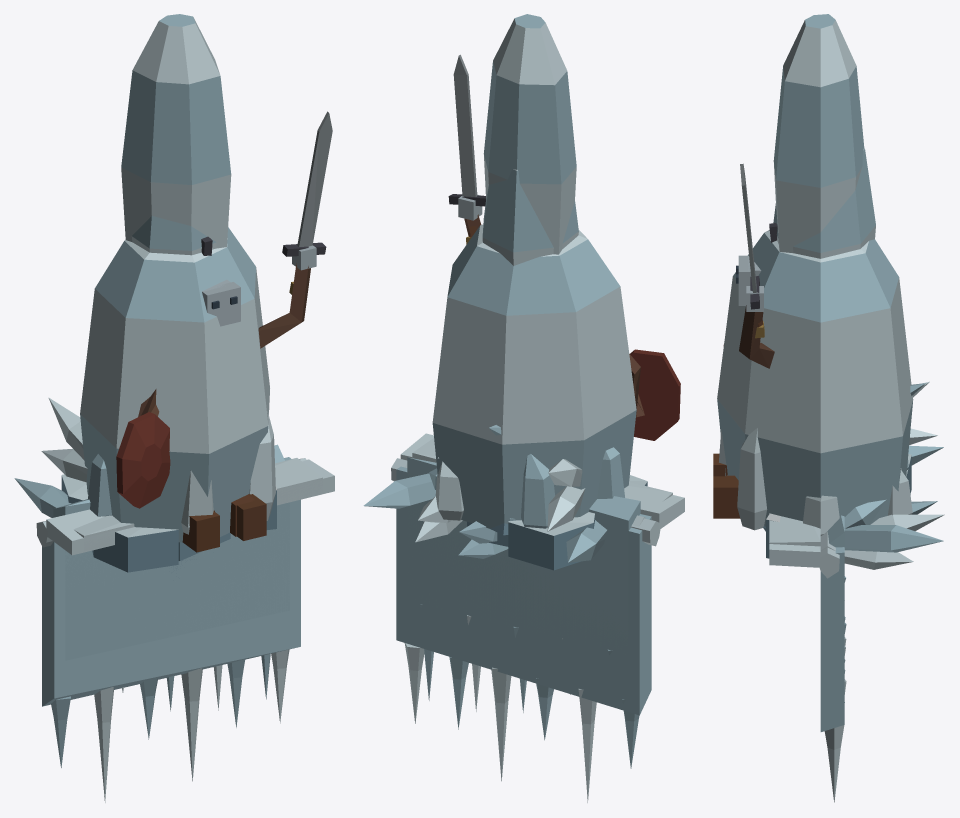
File: frozen.glb
3 views of the same model, side by side, from view 1: azimuth 30°, elevation 25°; view 2: azimuth 150°, elevation 25°; view 3: azimuth 270°, elevation 25° (orthographic).
Parts seen in each view (by area): view 1: frozen_frozen_adventurer_a, frozen_frozen_drape_b, frozen_frozen_drape_a, frozen_ice_pillar_b, frozen_frozen_adventurer_b, frozen_ice_floe_b, frozen_ice_pillar_a, frozen_frost_crystals_b, frozen_frost_crystals_a, frozen_ice_floe_a; view 2: frozen_frozen_adventurer_a, frozen_frozen_drape_b, frozen_frozen_drape_a, frozen_ice_pillar_b, frozen_ice_pillar_a, frozen_frozen_adventurer_b, frozen_frost_crystals_a, frozen_frost_crystals_b, frozen_ice_floe_a; view 3: frozen_frozen_adventurer_a, frozen_ice_pillar_b, frozen_frozen_drape_b, frozen_ice_pillar_a, frozen_frost_crystals_a, frozen_frost_crystals_b, frozen_frozen_drape_a.
Part boxes in pixels (x1,y1,x2,y2): frozen_frozen_adventurer_a: (80, 111, 332, 552); frozen_frozen_drape_b: (36, 457, 334, 802); frozen_frozen_drape_a: (53, 444, 322, 711); frozen_ice_pillar_b: (87, 14, 275, 520); frozen_frozen_adventurer_b: (116, 240, 254, 536); frozen_ice_floe_b: (92, 485, 276, 572); frozen_ice_pillar_a: (131, 216, 216, 534); frozen_frost_crystals_b: (14, 397, 84, 517); frozen_frost_crystals_a: (41, 448, 190, 568); frozen_ice_floe_a: (61, 474, 230, 560); frozen_frozen_adventurer_a: (432, 54, 636, 528); frozen_frozen_drape_b: (391, 433, 684, 802); frozen_frozen_drape_a: (405, 438, 672, 712); frozen_ice_pillar_b: (435, 14, 624, 520); frozen_ice_pillar_a: (482, 169, 578, 535); frozen_frozen_adventurer_b: (629, 349, 680, 440); frozen_frost_crystals_a: (363, 473, 585, 543); frozen_frost_crystals_b: (415, 425, 607, 562); frozen_ice_floe_a: (489, 512, 594, 570); frozen_frozen_adventurer_a: (713, 163, 913, 526); frozen_ice_pillar_b: (737, 14, 912, 530); frozen_frozen_drape_b: (769, 544, 846, 802); frozen_ice_pillar_a: (719, 148, 908, 535); frozen_frost_crystals_a: (844, 428, 944, 552); frozen_frost_crystals_b: (844, 381, 943, 569); frozen_frozen_drape_a: (769, 513, 846, 673).
Bounding box in the file's own units: 0.8801 × 2.47 × 0.6786.
